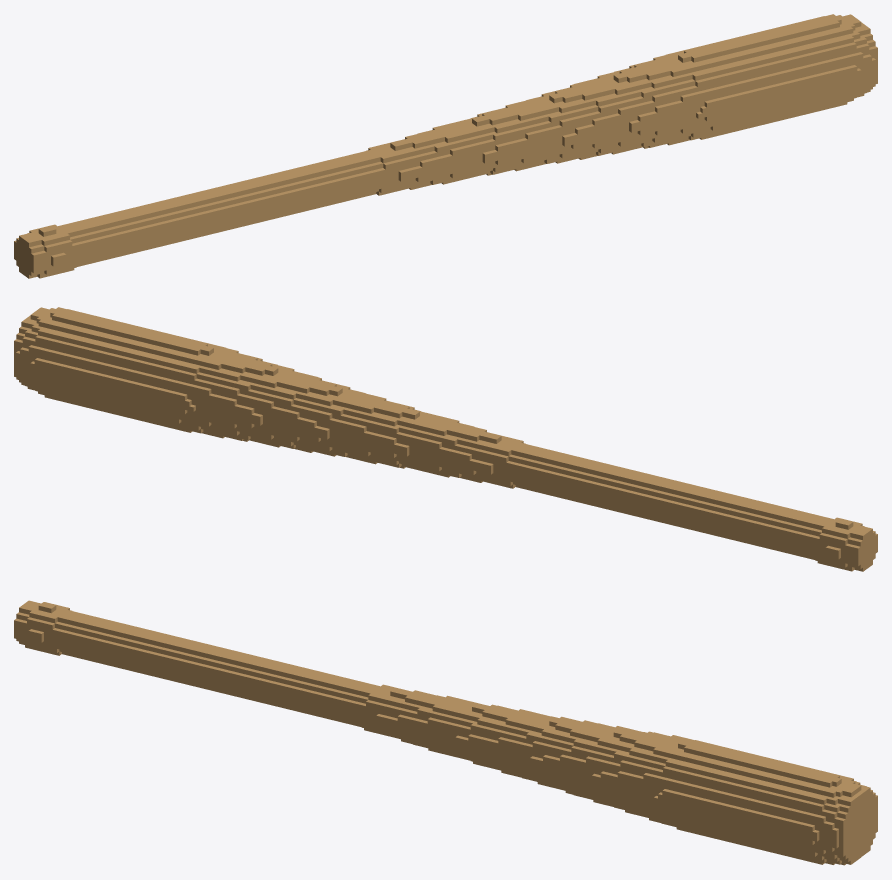
Rendered from baseball_bat.glb.
3 views of the same model, one above another, from view 1: azimuth 30°, elevation 25°; view 2: azimuth 150°, elevation 25°; view 3: azimuth 330°, elevation 25° (orthographic).
Visible parts, largest first — view 1: baseball_bat:bat; view 2: baseball_bat:bat; view 3: baseball_bat:bat.
Part boxes in pixels (bbox=[...]): baseball_bat:bat: bbox=[14, 14, 877, 278]; baseball_bat:bat: bbox=[14, 307, 877, 571]; baseball_bat:bat: bbox=[14, 600, 877, 865].
Bounding box in the file's own units: 0.78 × 0.072 × 0.072.
